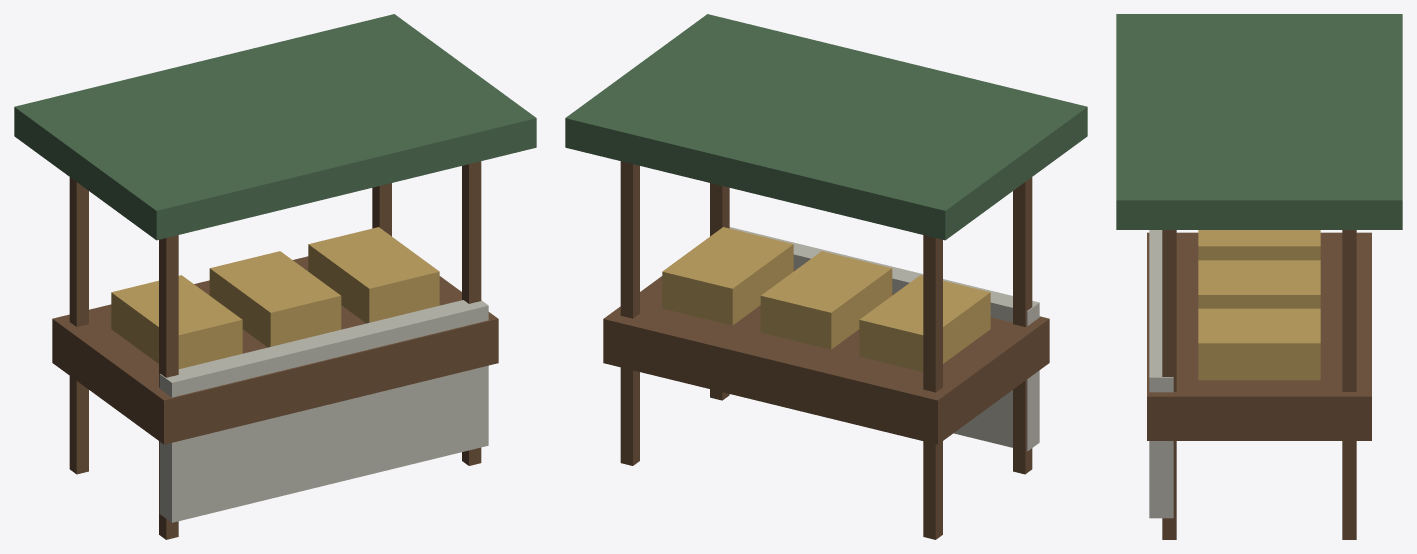
File: market-stall.glb
3 views of the same model, side by side, from view 1: azimuth 30°, elevation 25°; view 2: azimuth 150°, elevation 25°; view 3: azimuth 270°, elevation 25° (orthographic).
Parts seen in each view (by area): view 1: market-stall; view 2: market-stall; view 3: market-stall.
Boxes of the visible parts, x1,y1,x2,y2 form: market-stall: (14,14,536,539); market-stall: (565,14,1087,539); market-stall: (1116,14,1402,539).
Size of the model in its own units: 1 by 0.8889 by 0.6481.
